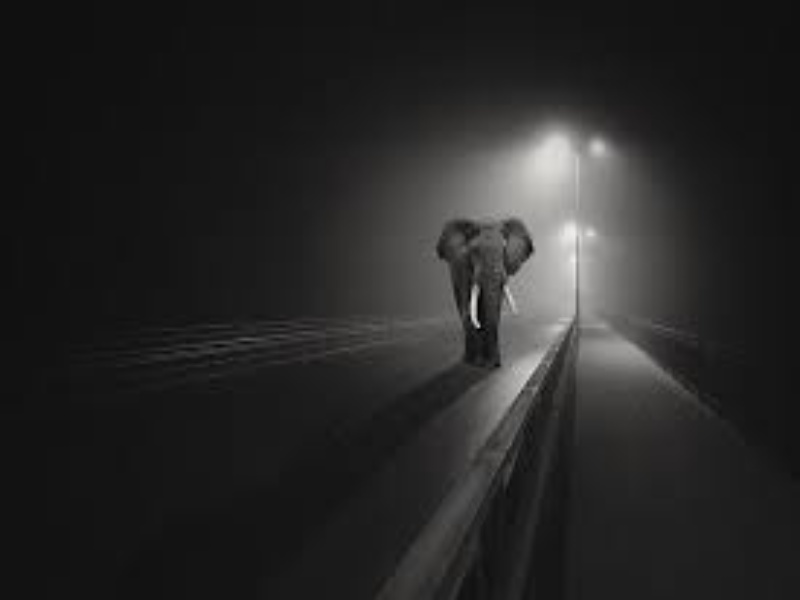elephant: (407, 168, 567, 404)
